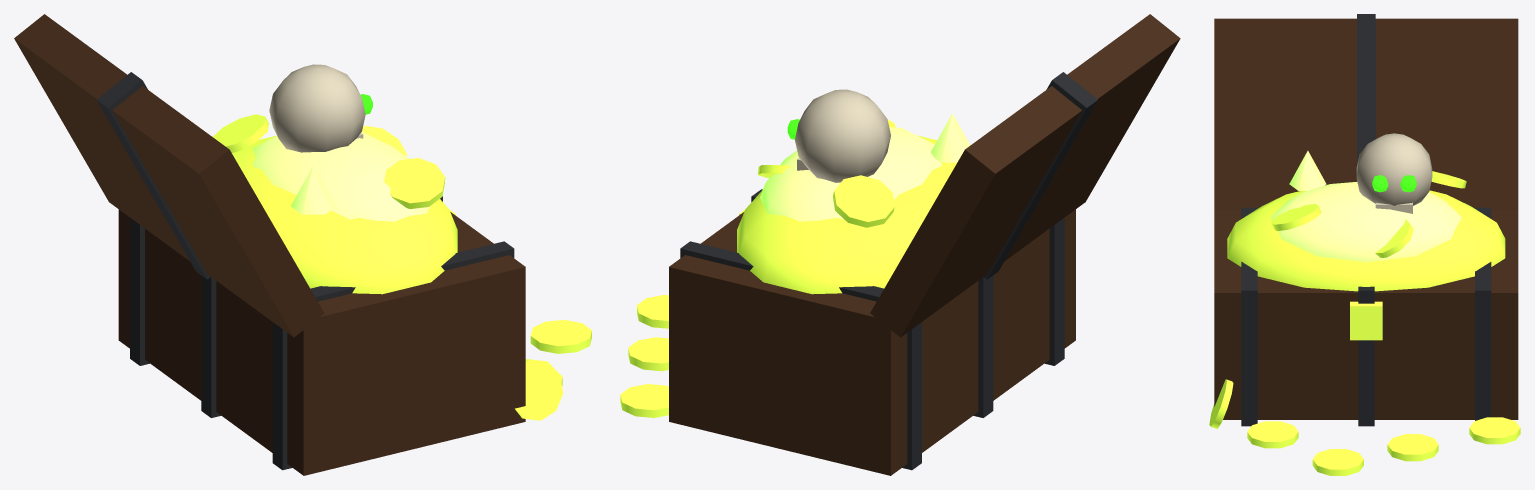
Rendered from mount-hoard.glb.
3 views of the same model, side by side, from view 1: azimuth 30°, elevation 25°; view 2: azimuth 150°, elevation 25°; view 3: azimuth 270°, elevation 25° (orthographic). The views are drawn at different scales.
Visible parts, largest first — view 1: Mesh_Chest, Mesh_Lid, Mesh_Heap, Mesh_HeapGlow, Mesh_Skull, Mesh_BandS, Mesh_LidBand, Mesh_Coin0, Mesh_BandM, Mesh_BandP, Mesh_Coin7, Mesh_Coin6 (+2 smaller); view 2: Mesh_Chest, Mesh_Lid, Mesh_Heap, Mesh_Skull, Mesh_HeapGlow, Mesh_BandP, Mesh_LidBand, Mesh_Coin1, Mesh_BandM, Mesh_BandS, Mesh_Coin5, Mesh_Coin4 (+2 smaller); view 3: Mesh_Lid, Mesh_Chest, Mesh_Heap, Mesh_HeapGlow, Mesh_Skull, Mesh_BandS, Mesh_BandP, Mesh_LidBand, Mesh_BandM, Mesh_Lock, Mesh_Coin4, Mesh_Coin5 (+7 smaller).
Part boxes in pixels (x1,y1,x2,y2): Mesh_Chest: [118, 209, 525, 475]; Mesh_Lid: [14, 14, 324, 337]; Mesh_Heap: [232, 135, 457, 294]; Mesh_HeapGlow: [252, 132, 430, 221]; Mesh_Skull: [269, 64, 365, 152]; Mesh_BandS: [272, 241, 514, 470]; Mesh_LidBand: [96, 72, 210, 279]; Mesh_Coin0: [384, 158, 445, 208]; Mesh_BandM: [201, 196, 442, 417]; Mesh_BandP: [130, 218, 149, 365]; Mesh_Coin7: [515, 359, 563, 420]; Mesh_Coin6: [530, 320, 591, 353]; Mesh_Chest: [669, 209, 1075, 475]; Mesh_Lid: [870, 14, 1180, 337]; Mesh_Heap: [737, 135, 956, 294]; Mesh_Skull: [795, 89, 890, 182]; Mesh_HeapGlow: [760, 127, 941, 221]; Mesh_BandP: [680, 241, 921, 470]; Mesh_LidBand: [984, 72, 1097, 279]; Mesh_Coin1: [833, 175, 894, 227]; Mesh_BandM: [751, 189, 993, 417]; Mesh_BandS: [1045, 218, 1064, 365]; Mesh_Coin5: [620, 384, 668, 417]; Mesh_Coin4: [628, 337, 668, 371]; Mesh_Lid: [1214, 18, 1518, 210]; Mesh_Chest: [1214, 210, 1518, 419]; Mesh_Heap: [1227, 190, 1505, 291]; Mesh_HeapGlow: [1270, 182, 1461, 262]; Mesh_Skull: [1356, 133, 1432, 205]; Mesh_BandS: [1241, 207, 1257, 426]; Mesh_BandP: [1475, 207, 1491, 420]; Mesh_LidBand: [1357, 14, 1375, 181]; Mesh_BandM: [1358, 286, 1374, 426]; Mesh_Lock: [1350, 301, 1382, 340]; Mesh_Coin4: [1387, 434, 1438, 461]; Mesh_Coin5: [1469, 417, 1520, 444].
Size of the model in its own units: 1.9 by 1.38 by 1.33.
